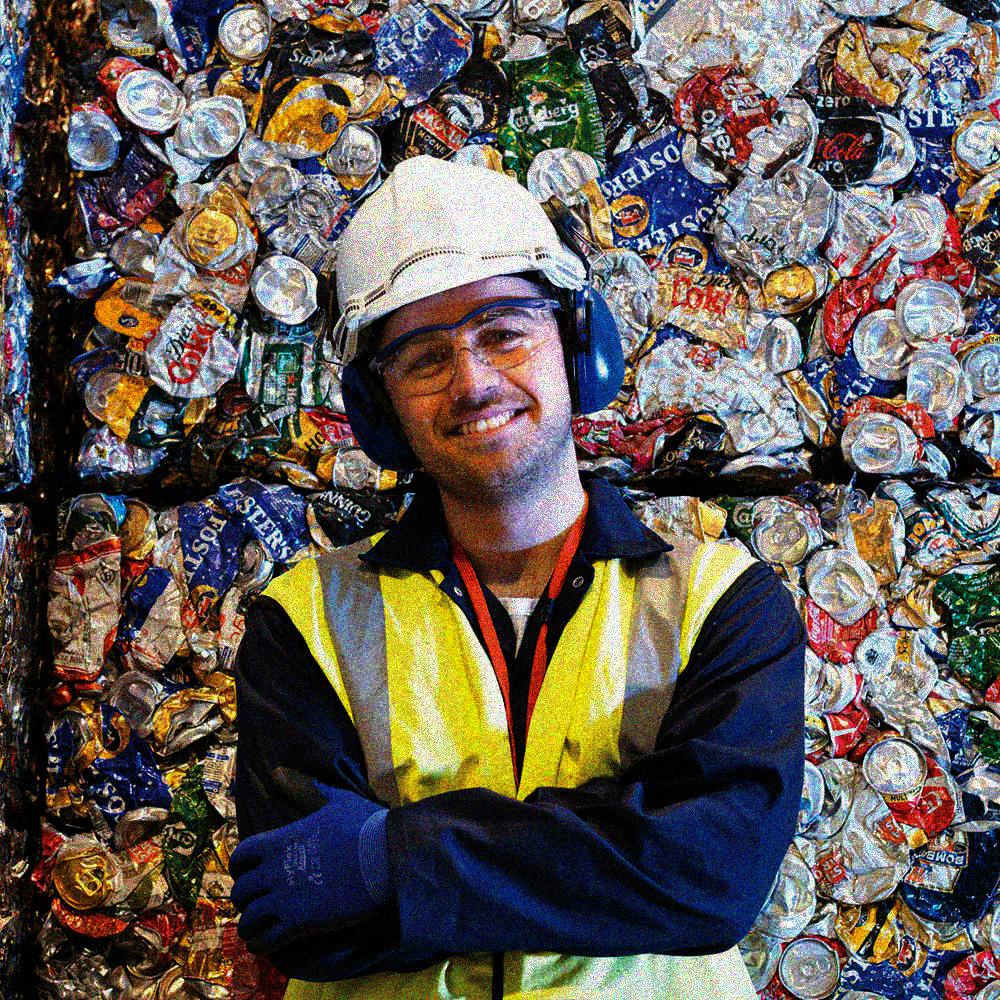helmet: (340, 148, 598, 491)
